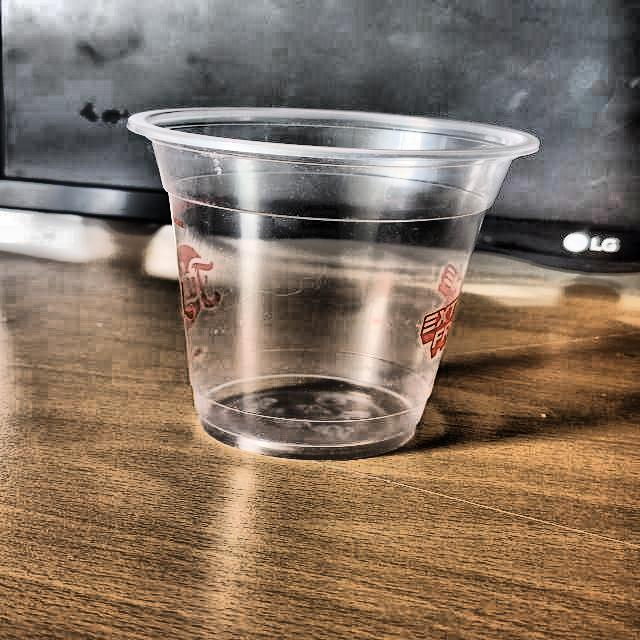plastic cup: (126, 104, 544, 456)
